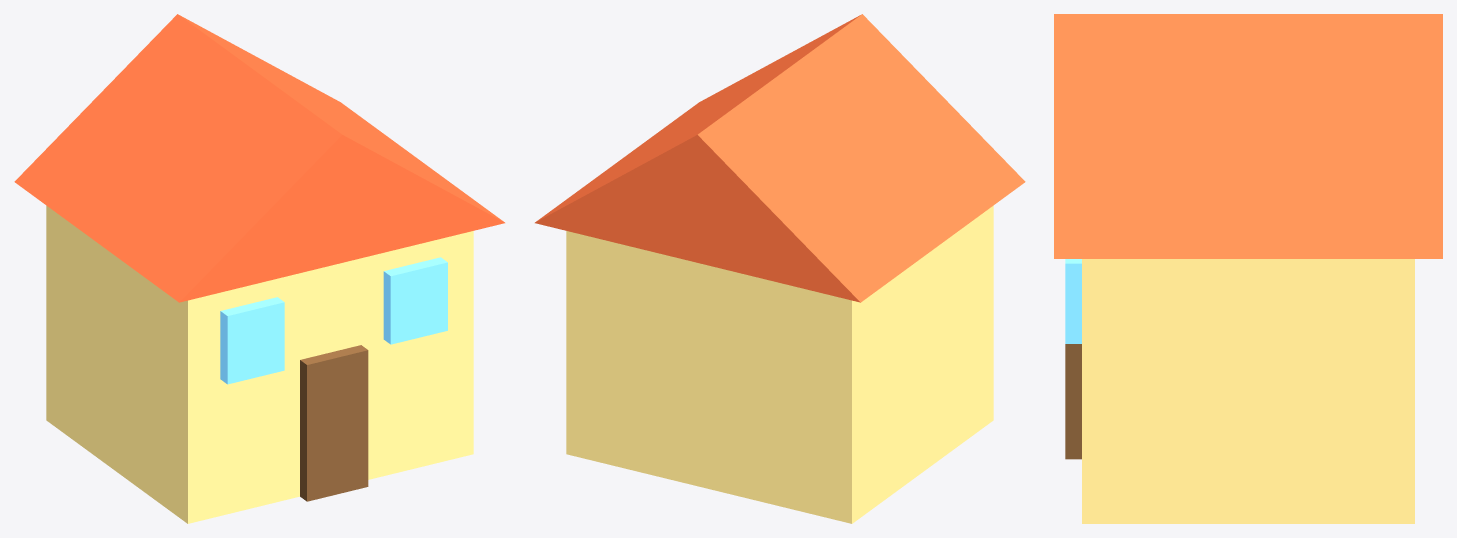
Rendered from residential_1.glb.
3 renders of one model, left to right at view 1: azimuth 30°, elevation 25°; view 2: azimuth 150°, elevation 25°; view 3: azimuth 270°, elevation 25°, orthographic. The views are drawn at different scales.
Visible parts, largest first — view 1: residential_1; view 2: residential_1; view 3: residential_1.
Boxes of the visible parts, left/top/right/bottom form: residential_1: left=14, top=14, right=504, bottom=523; residential_1: left=535, top=14, right=1025, bottom=523; residential_1: left=1054, top=14, right=1442, bottom=523.
Size of the model in its own units: 0.8 by 0.85 by 0.7.
